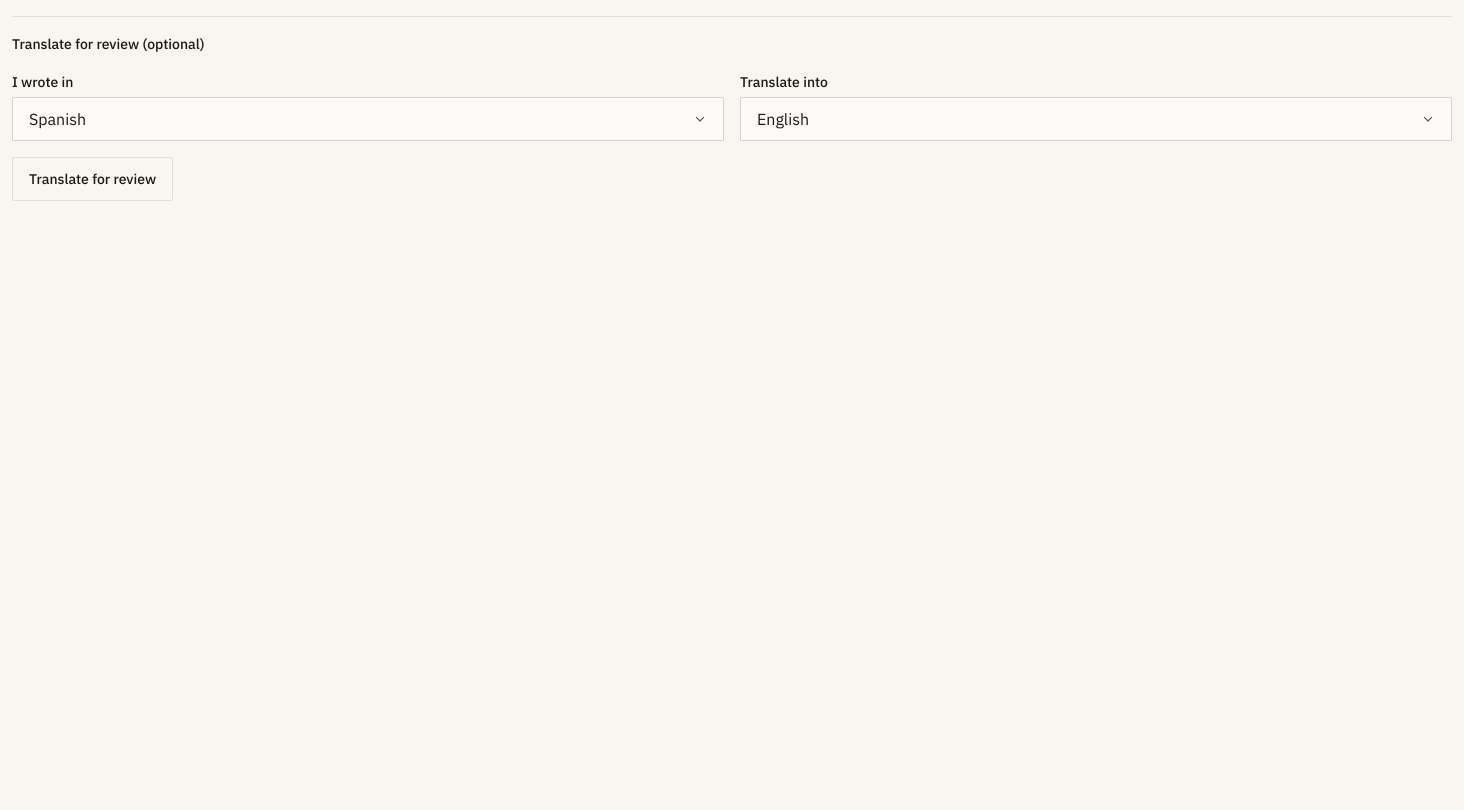
Test case: translation for review › can keep the original text and discard the translation
Click the button "Translate for review": x=93, y=179 [12,157,173,201]
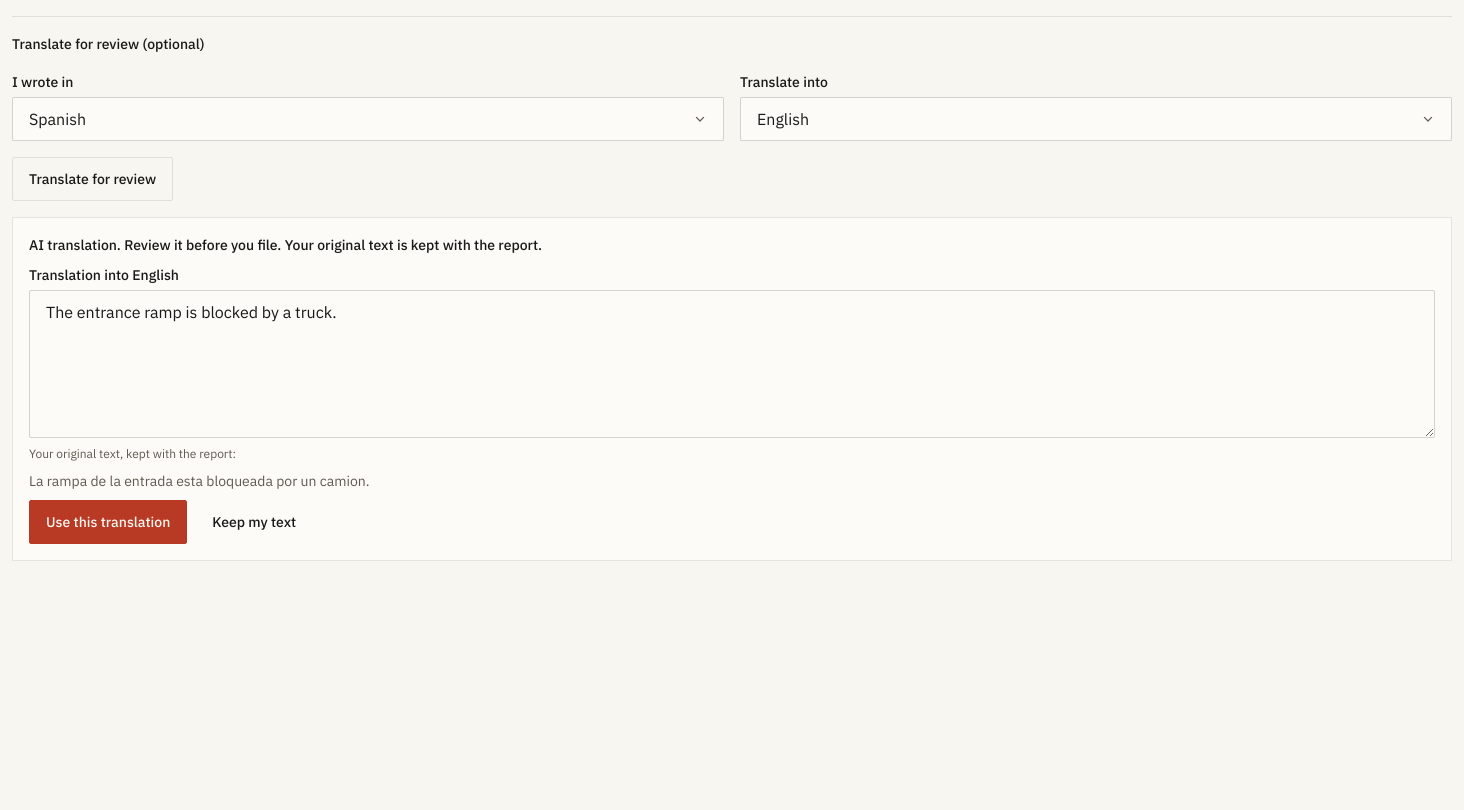
Click the button "Keep my text": x=254, y=522 [195,500,313,544]
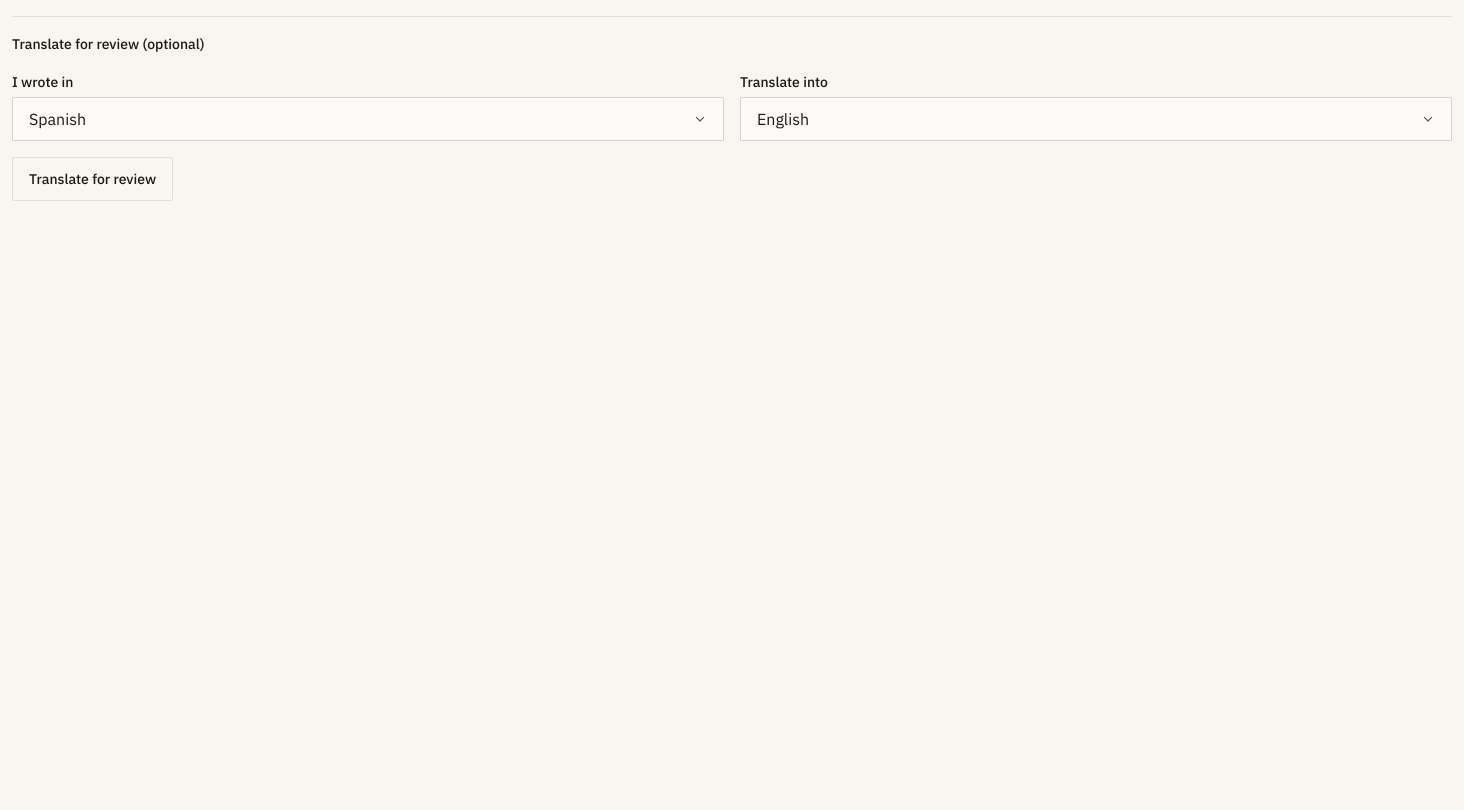
Expected: the label labelled "Translation into English" is gone
